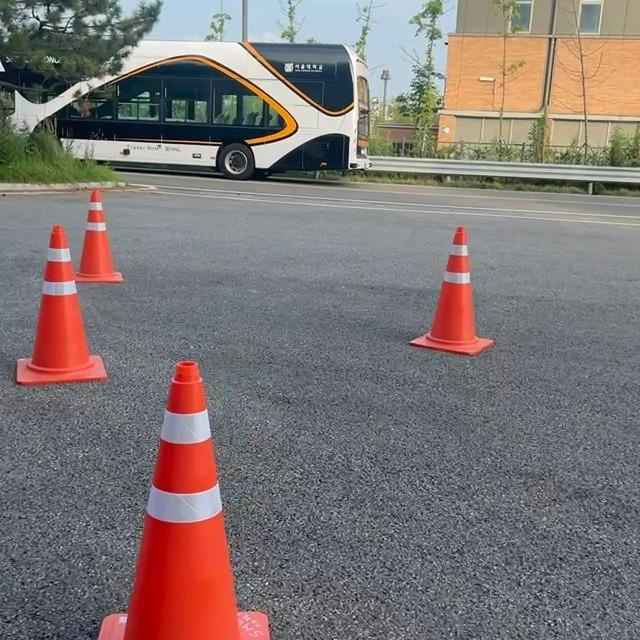fallen_object: (70, 340, 330, 640), (393, 216, 566, 454), (9, 215, 117, 384), (30, 163, 150, 313)
